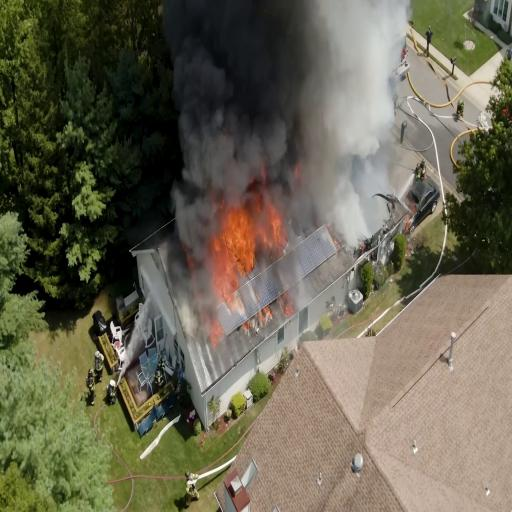fire: (198, 205, 257, 299)
smoke: (196, 0, 334, 176), (301, 0, 383, 221)
